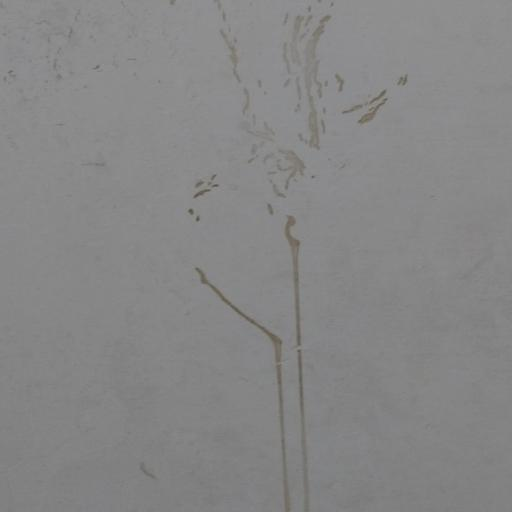stain: (170, 5, 420, 512)
